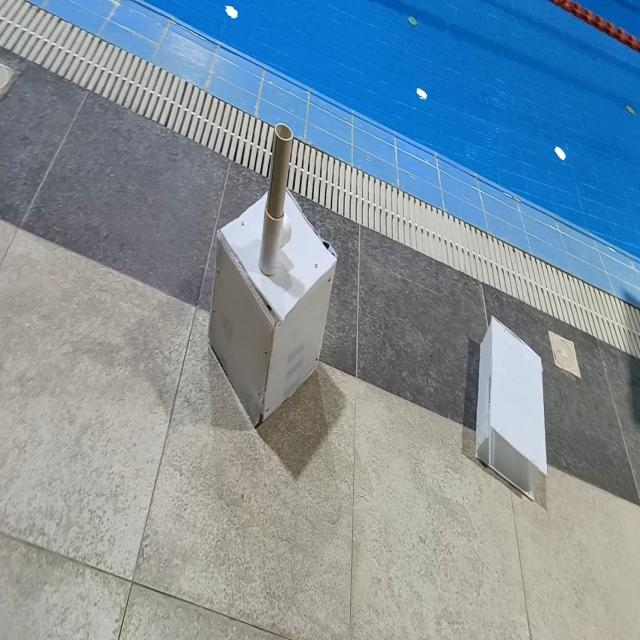Cube: (207, 184, 338, 427)
Cuboid: (474, 313, 548, 501)
